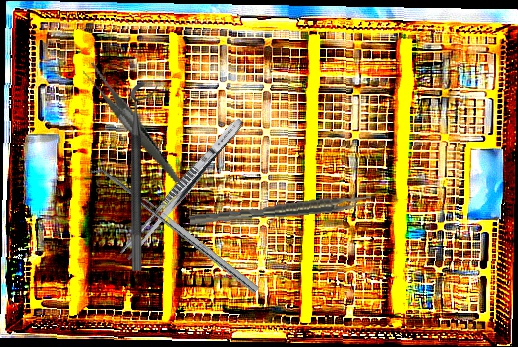Dressing Forceps: (118, 114, 247, 263), (81, 48, 180, 200)
Fixation Ring: (130, 82, 158, 271)
Spatula Surgical: (88, 161, 260, 301)
Tissue Forceps: (188, 194, 373, 225)
